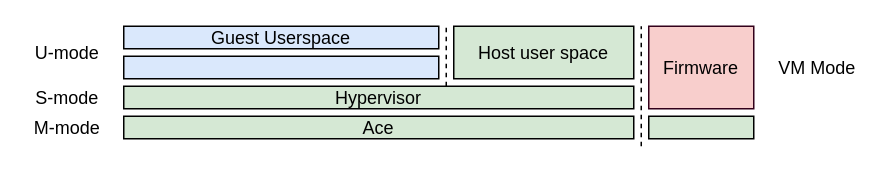
This 884x174 diagram has some shape labels left out. Here are the shapes that lost their labels. From the top down, the centre of each, then its label:
At (x=280, y=67): "Guest OS".
At (x=700, y=127): "Miralis".
